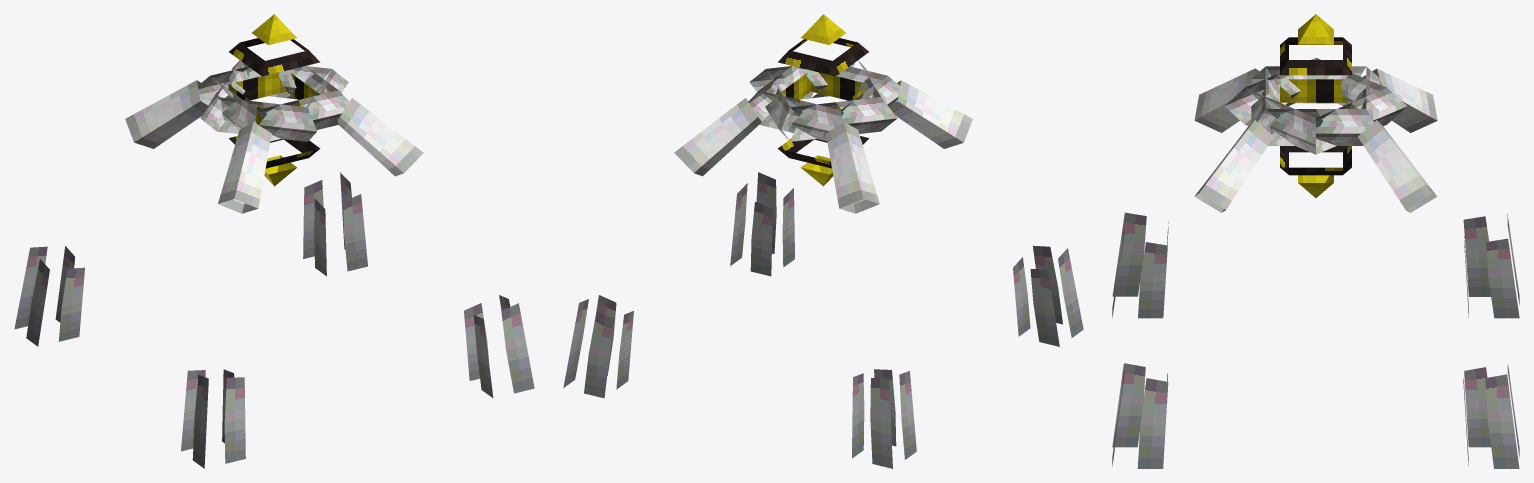
The model's file is arcane_workbech_wand_charger.obj.
3 renders of one model, left to right at view 1: azimuth 30°, elevation 25°; view 2: azimuth 150°, elevation 25°; view 3: azimuth 270°, elevation 25°, orthographic. The views are drawn at different scales.
Visible parts, largest first — view 1: RingFloat, Support001, Support, Support002, Crystal, Support003; view 2: Support, Support001, RingFloat, Support003, Crystal, Support002; view 3: RingFloat, Support002, Support003, Support001, Support, Crystal.
Part boxes in pixels (left/top/right/bottom): RingFloat: left=198, top=60, right=349, bottom=141; Support001: left=181, top=122, right=271, bottom=468; Support: left=14, top=80, right=211, bottom=346; Support002: left=338, top=98, right=534, bottom=397; Crystal: left=228, top=14, right=320, bottom=186; Support003: left=303, top=65, right=367, bottom=276; Support: left=826, top=122, right=916, bottom=468; Support001: left=889, top=80, right=1083, bottom=346; RingFloat: left=748, top=60, right=900, bottom=141; Support003: left=563, top=98, right=761, bottom=398; Crystal: left=777, top=14, right=868, bottom=186; Support002: left=730, top=172, right=794, bottom=276; RingFloat: left=1224, top=58, right=1407, bottom=154; Support002: left=1112, top=120, right=1273, bottom=468; Support003: left=1358, top=120, right=1519, bottom=468; Support001: left=1112, top=68, right=1259, bottom=318; Support: left=1363, top=68, right=1519, bottom=318; Crystal: left=1280, top=14, right=1351, bottom=197.
Bounding box in the file's own units: 1 × 1 × 1.
